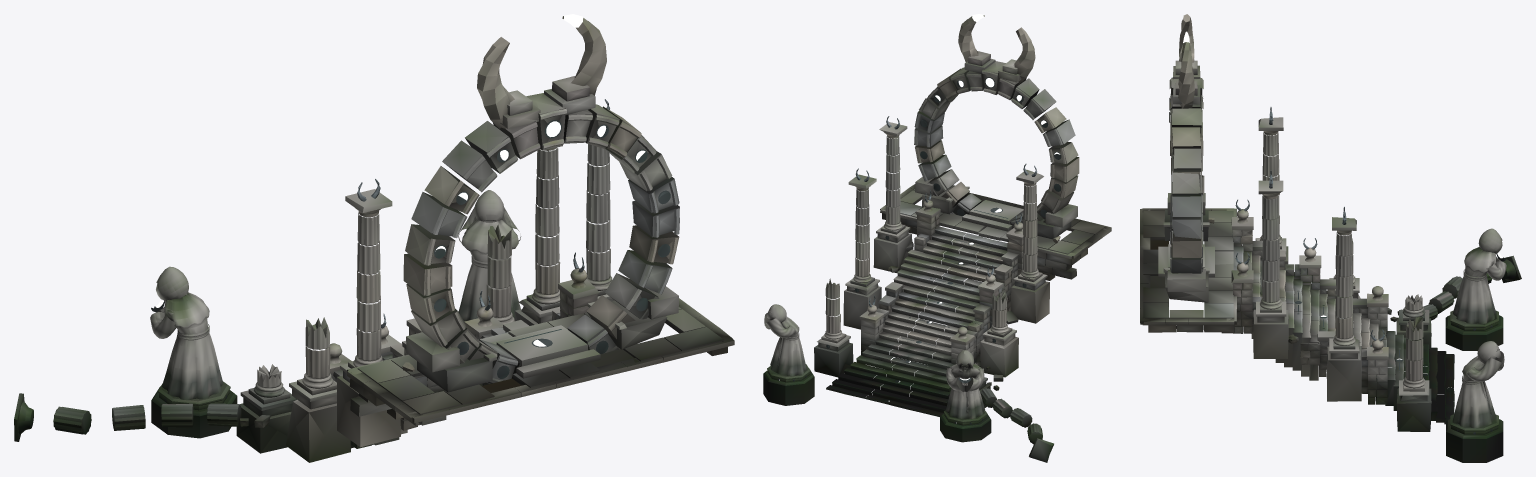
Rendered from drowned_temple_entrance.glb.
3 renders of one model, left to right at view 1: azimuth 30°, elevation 25°; view 2: azimuth 150°, elevation 25°; view 3: azimuth 270°, elevation 25°, orthographic. The views are drawn at different scales.
Parts seen in each view (by area): view 1: Entrance_Moongate, Entrance_FlankEast, Entrance_FlankWest; view 2: Entrance_Moongate, Entrance_MoonStair, Entrance_FlankWest, Entrance_FlankEast; view 3: Entrance_FlankWest, Entrance_Moongate, Entrance_FlankEast, Entrance_MoonStair.
Part boxes in pixels (left/top/right/bottom): Entrance_Moongate: left=347, top=14, right=734, bottom=423; Entrance_FlankEast: left=14, top=179, right=446, bottom=462; Entrance_FlankWest: left=458, top=99, right=619, bottom=385; Entrance_Moongate: left=880, top=14, right=1111, bottom=280; Entrance_MoonStair: left=826, top=226, right=1007, bottom=416; Entrance_FlankWest: left=763, top=116, right=940, bottom=405; Entrance_FlankEast: left=940, top=163, right=1053, bottom=462; Entrance_FlankWest: left=1231, top=170, right=1504, bottom=462; Entrance_Moongate: left=1140, top=14, right=1236, bottom=333; Entrance_FlankEast: left=1231, top=107, right=1521, bottom=350; Entrance_MoonStair: left=1233, top=246, right=1454, bottom=424.
Size of the model in its own units: 22.35 by 22.54 by 20.82.
